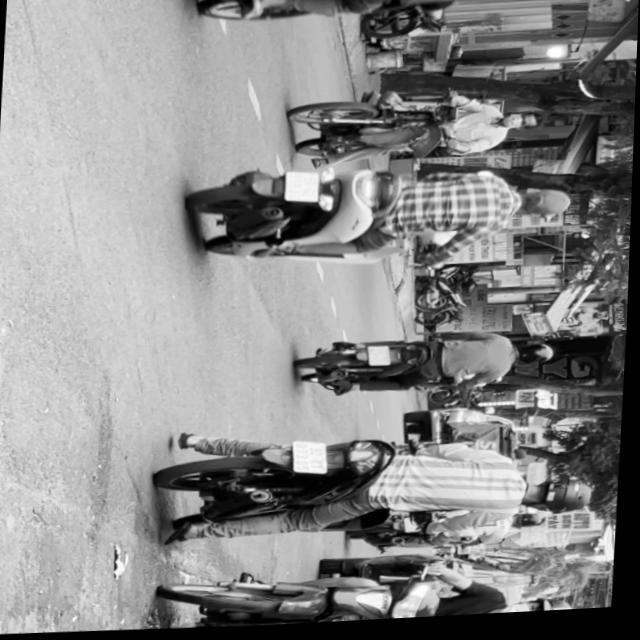helmet: (528, 478, 596, 521), (500, 599, 579, 619), (518, 346, 557, 371)
licenseplate: (155, 420, 598, 557), (188, 155, 579, 276), (162, 553, 585, 633), (285, 84, 544, 173), (296, 327, 560, 406)
motorcyclist: (516, 190, 574, 225), (500, 115, 541, 135)
nohelmet: (295, 443, 331, 478), (287, 173, 321, 205), (370, 350, 393, 369)
